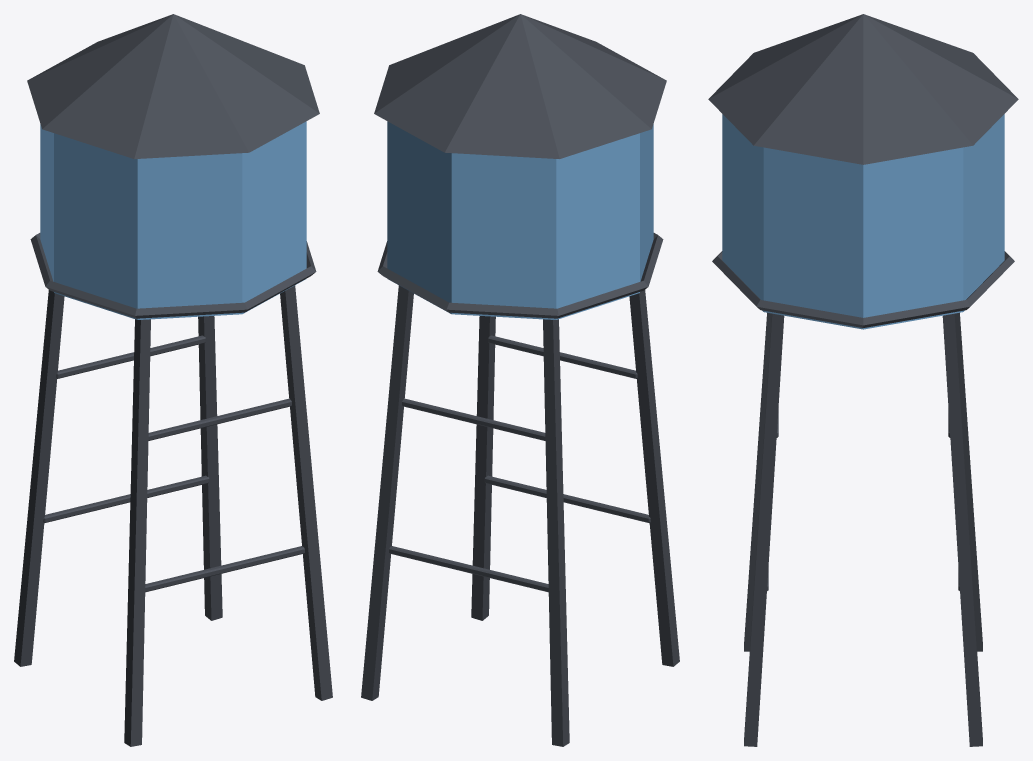
File: WaterTower.fbx
3 views of the same model, side by side, from view 1: azimuth 30°, elevation 25°; view 2: azimuth 150°, elevation 25°; view 3: azimuth 270°, elevation 25° (orthographic). The views are drawn at different scales.
Parts seen in each view (by area): view 1: WaterTower; view 2: WaterTower; view 3: WaterTower.
Boxes of the visible parts, box(x1,y1,x2,y2) form: WaterTower: box(14, 14, 332, 746); WaterTower: box(361, 14, 679, 746); WaterTower: box(708, 14, 1018, 746).
Bounding box in the file's own units: 6.6 × 16.02 × 6.6.
Materials: 1 (1 with a texture image).
